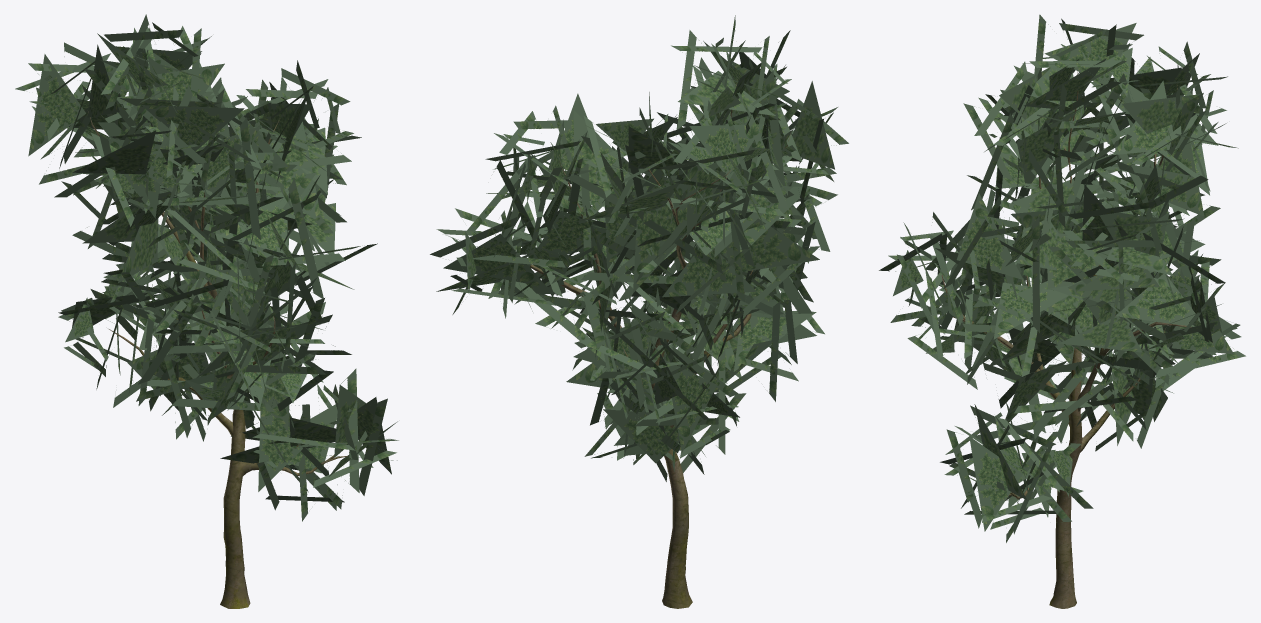
Rendered from MiddleTree2.fbx.
3 renders of one model, left to right at view 1: azimuth 30°, elevation 25°; view 2: azimuth 150°, elevation 25°; view 3: azimuth 270°, elevation 25°, orthographic. The views are drawn at different scales.
Visible parts, largest first — view 1: SM_d_109_MiddleTree_02a; view 2: SM_d_109_MiddleTree_02a; view 3: SM_d_109_MiddleTree_02a.
Part boxes in pixels (bbox=[...]): SM_d_109_MiddleTree_02a: bbox=[15, 14, 398, 608]; SM_d_109_MiddleTree_02a: bbox=[430, 15, 848, 608]; SM_d_109_MiddleTree_02a: bbox=[879, 14, 1245, 608].
Size of the model in its own units: 947 by 1628 by 979.
